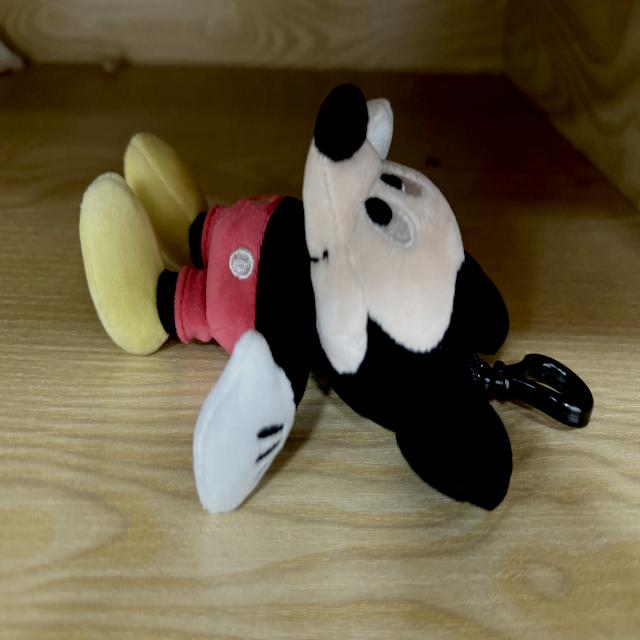mickey: (81, 87, 511, 512)
